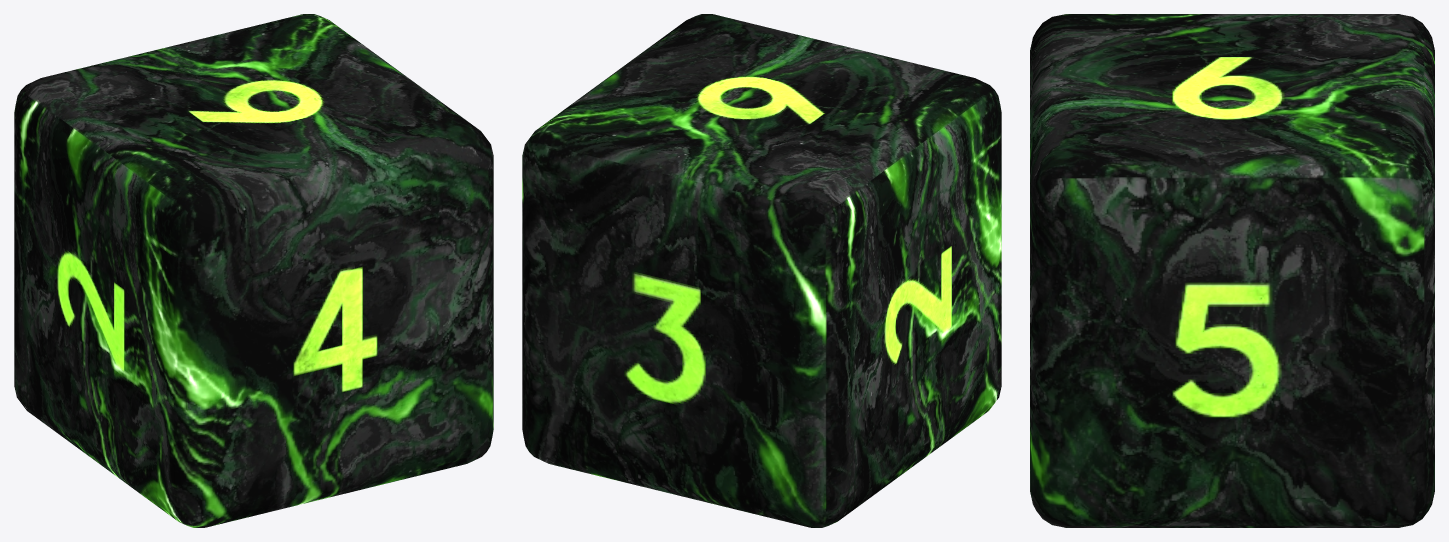
3 views of the same model, side by side, from view 1: azimuth 30°, elevation 25°; view 2: azimuth 150°, elevation 25°; view 3: azimuth 270°, elevation 25° (orthographic). The views are drawn at different scales.
Visible parts, largest first — view 1: dice_6; view 2: dice_6; view 3: dice_6.
Part boxes in pixels (x1,y1,x2,y2): dice_6: [14, 14, 493, 527]; dice_6: [522, 14, 1001, 527]; dice_6: [1030, 14, 1434, 527].
Bounding box in the file's own units: 104 × 104 × 104.
1 material, 1 textured.
